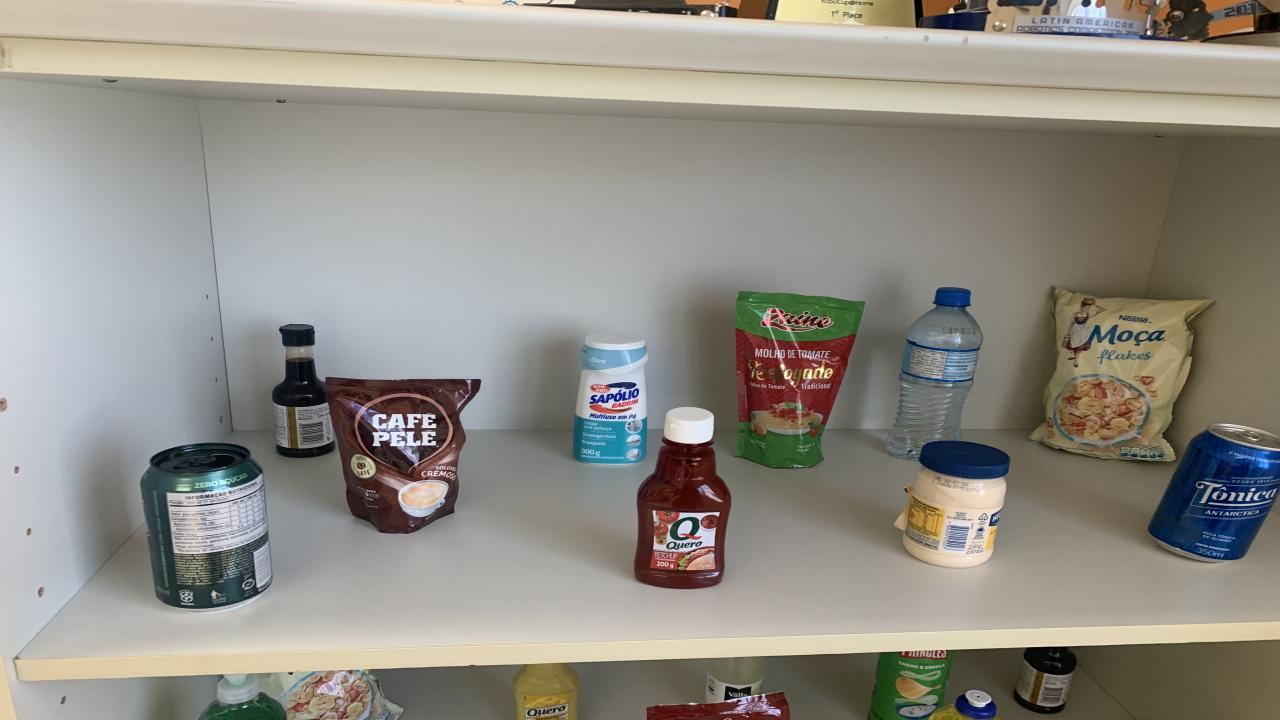Cleaner-Cleanup_Items: (572, 334, 648, 463)
Coffee-Pantry_Items: (325, 377, 480, 532)
Detergent-Cleanup_Items: (200, 673, 288, 720), (930, 690, 998, 720)
English_Sauce-Pantry_Items: (272, 324, 335, 458), (1015, 647, 1078, 714)
Flakes-Snacks: (1030, 287, 1212, 461), (260, 669, 402, 720)
Guarana_Can-Drinks: (140, 442, 272, 611)
Ketchup-Pantry_Items: (635, 407, 730, 589)
Mayonnaise-Pantry_Items: (898, 441, 1010, 568)
Mustard-Pantry_Items: (512, 664, 580, 720)
Pringles-Snacks: (868, 651, 952, 720)
Soda-Drinks: (705, 656, 765, 703)
Tomato_Sauce-Pantry_Items: (735, 291, 865, 467), (648, 692, 790, 720)
Tonic-Drinks: (1148, 424, 1280, 562)
Water_Bottle-Drinks: (888, 287, 982, 459)
